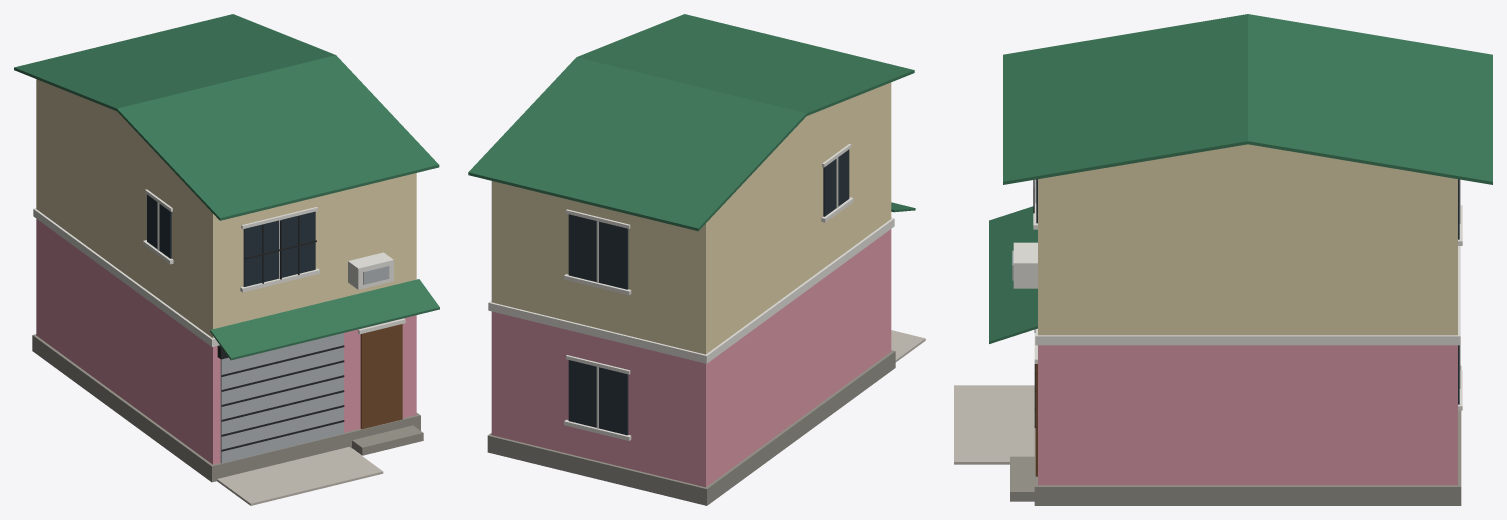
The model's file is BAY_F_TwoStorey_B.glb.
The picture shows the model from 3 angles, left to right: view 1: azimuth 30°, elevation 25°; view 2: azimuth 150°, elevation 25°; view 3: azimuth 270°, elevation 25°; orthographic projection. The views are drawn at different scales.
Visible parts, largest first — view 1: BAY_F_TwoStorey_B; view 2: BAY_F_TwoStorey_B; view 3: BAY_F_TwoStorey_B.
Boxes of the visible parts, bbox=[...] form: BAY_F_TwoStorey_B: bbox=[14, 14, 439, 505]; BAY_F_TwoStorey_B: bbox=[468, 14, 925, 505]; BAY_F_TwoStorey_B: bbox=[954, 14, 1492, 505].
Size of the model in its own units: 4.3 by 5.8 by 7.7.
Materials: 1 (1 with a texture image).
